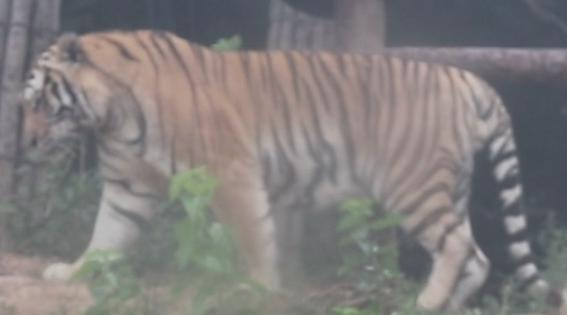tiger: (19, 31, 546, 310)
